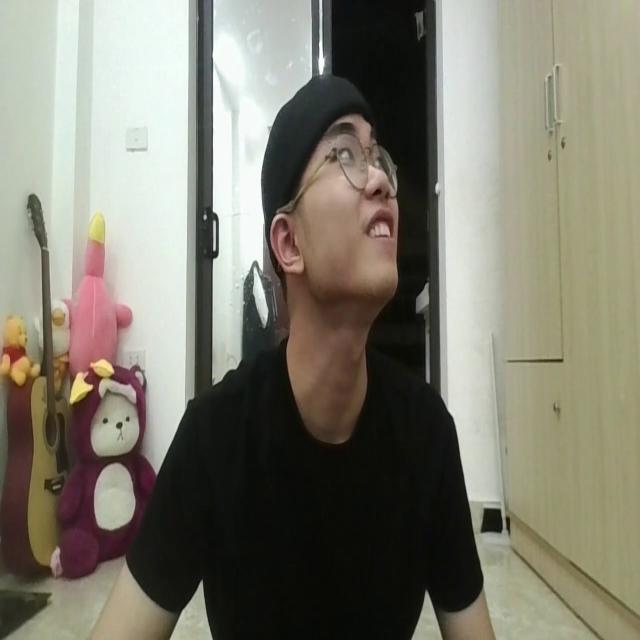student: (115, 68, 499, 640)
